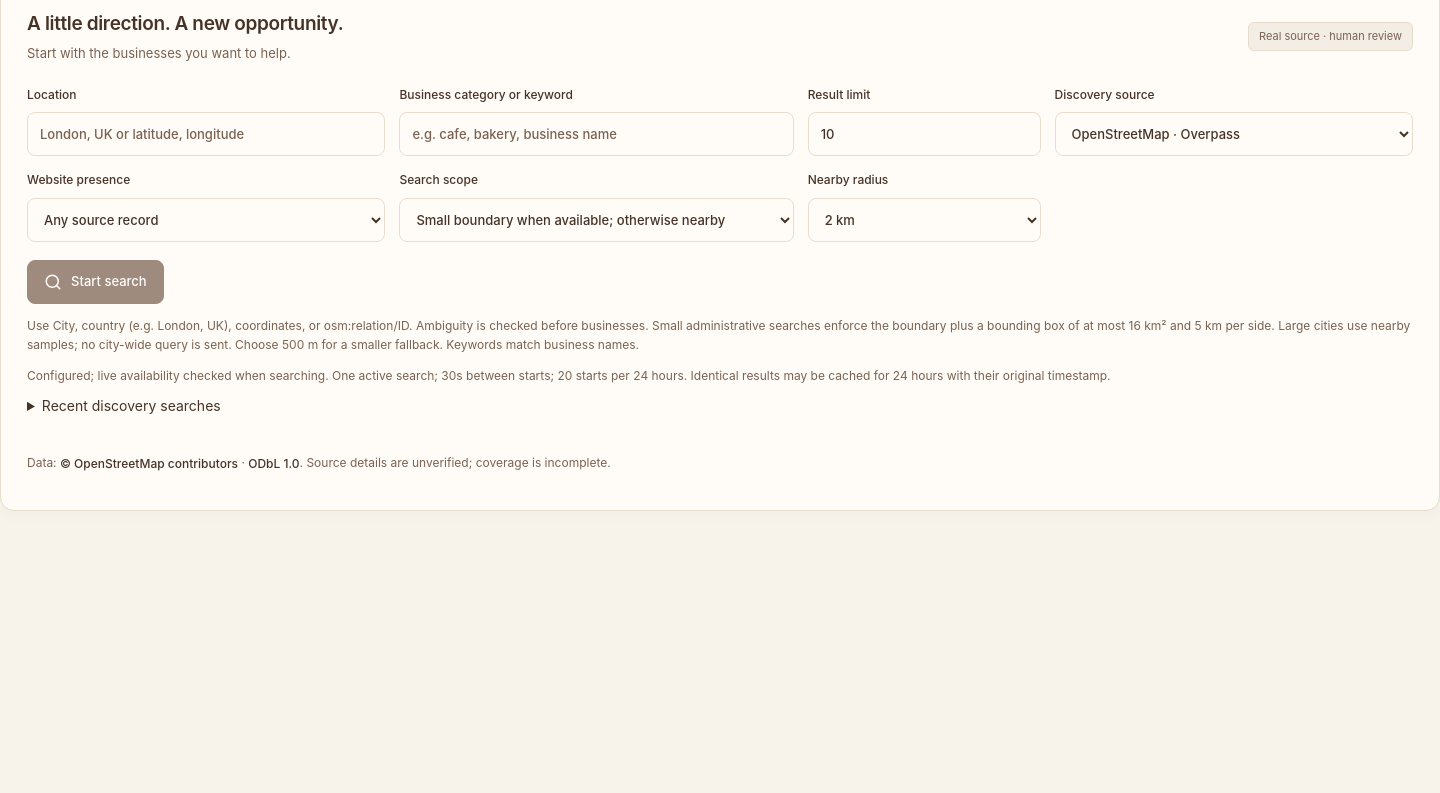
Test: submits bounded search values and saves reviewed IDs only with licence confirmation
This screenshot has width=1440, height=793.
Type "52.2, 0.1" into the field labelled "Location" at coordinates (206, 134), box [27,112,385,156]
Type "cafe" into the field labelled "Business category or keyword" at coordinates (596, 134), box [399,112,794,156]
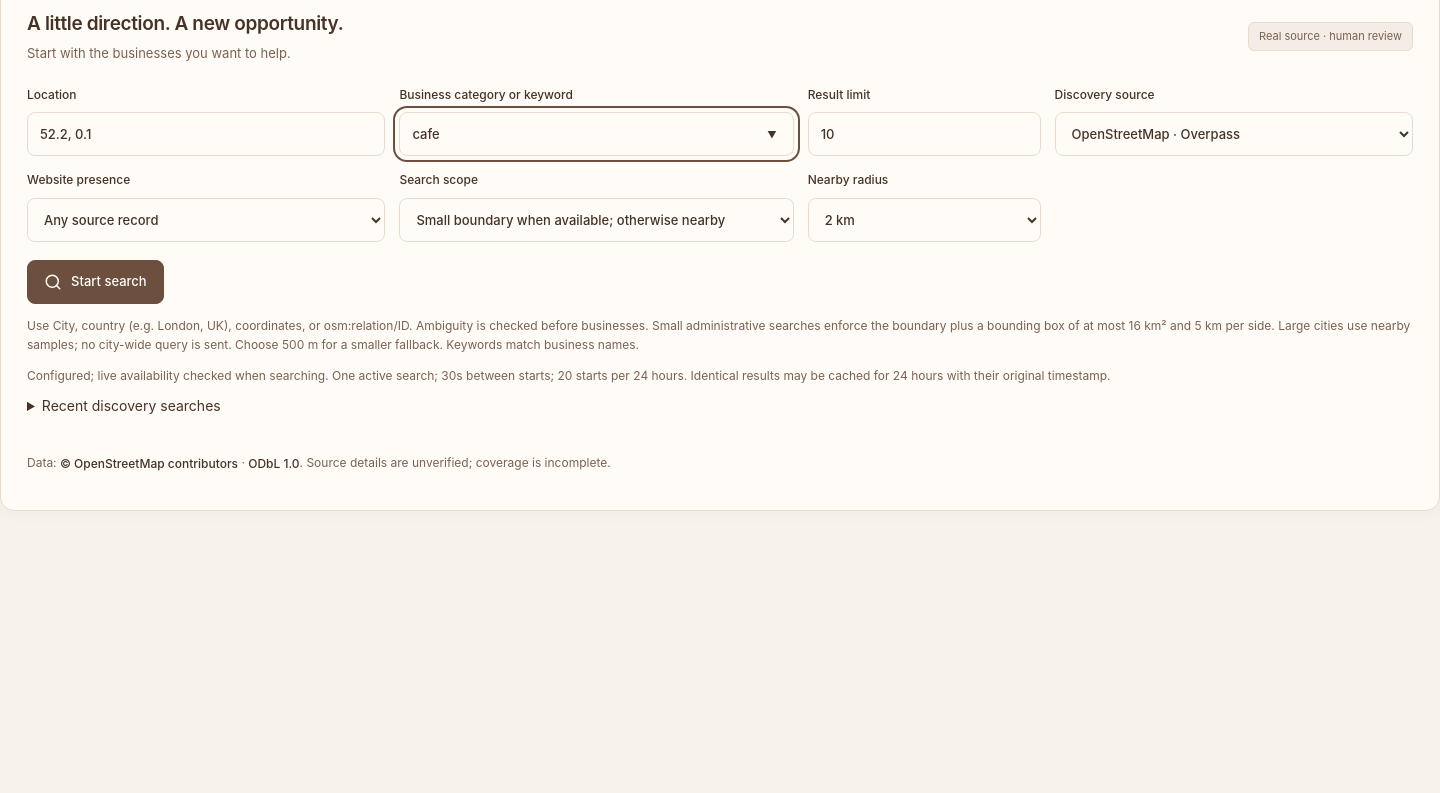
Expected: the number field labelled "Result limit" holds "10", [808,112,1041,156]
Select "No usable website tag" in the dropdown labelled "Website presence" at coordinates (206, 220), box [27,198,385,242]
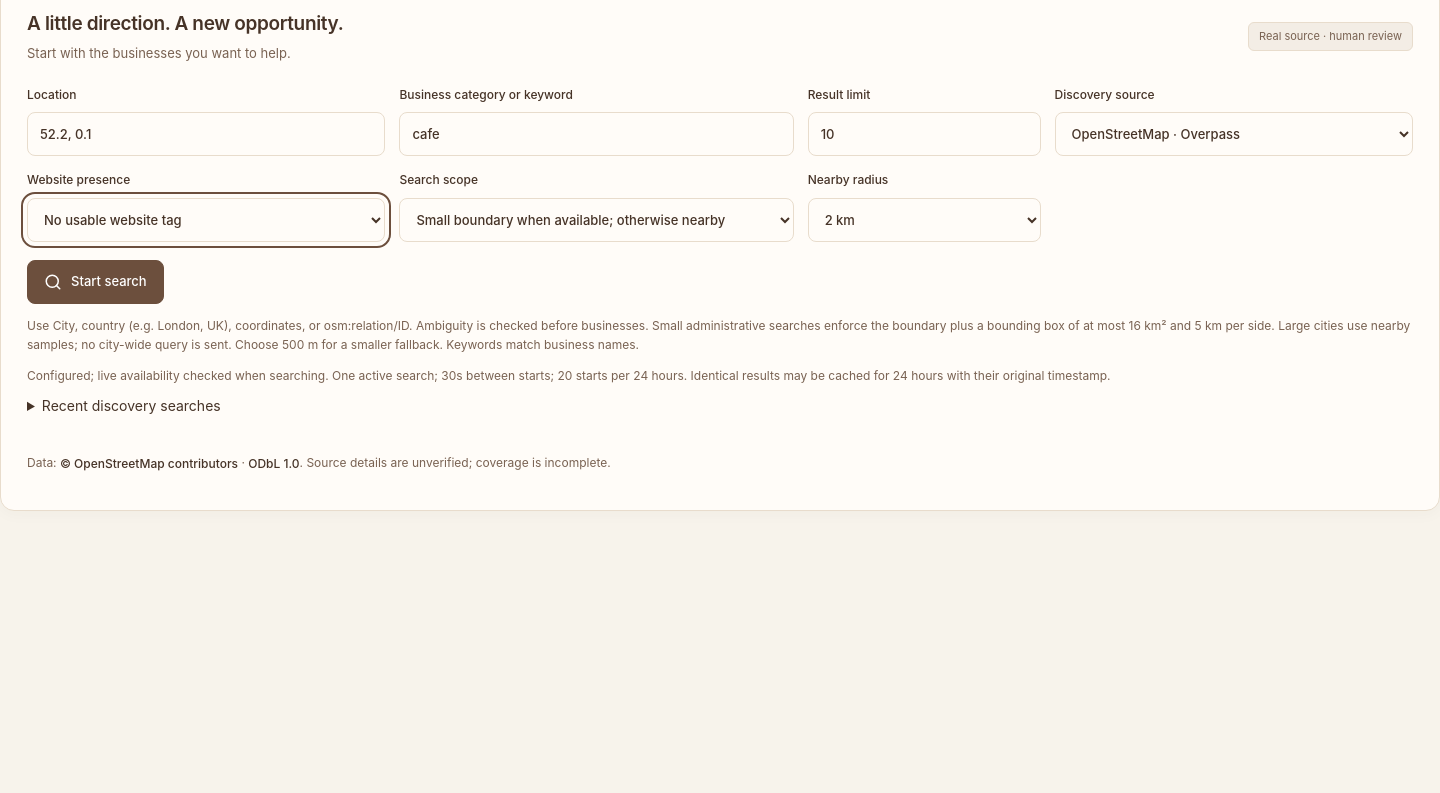
Click the button "Start search" at coordinates (95, 282), box [27,260,164,304]
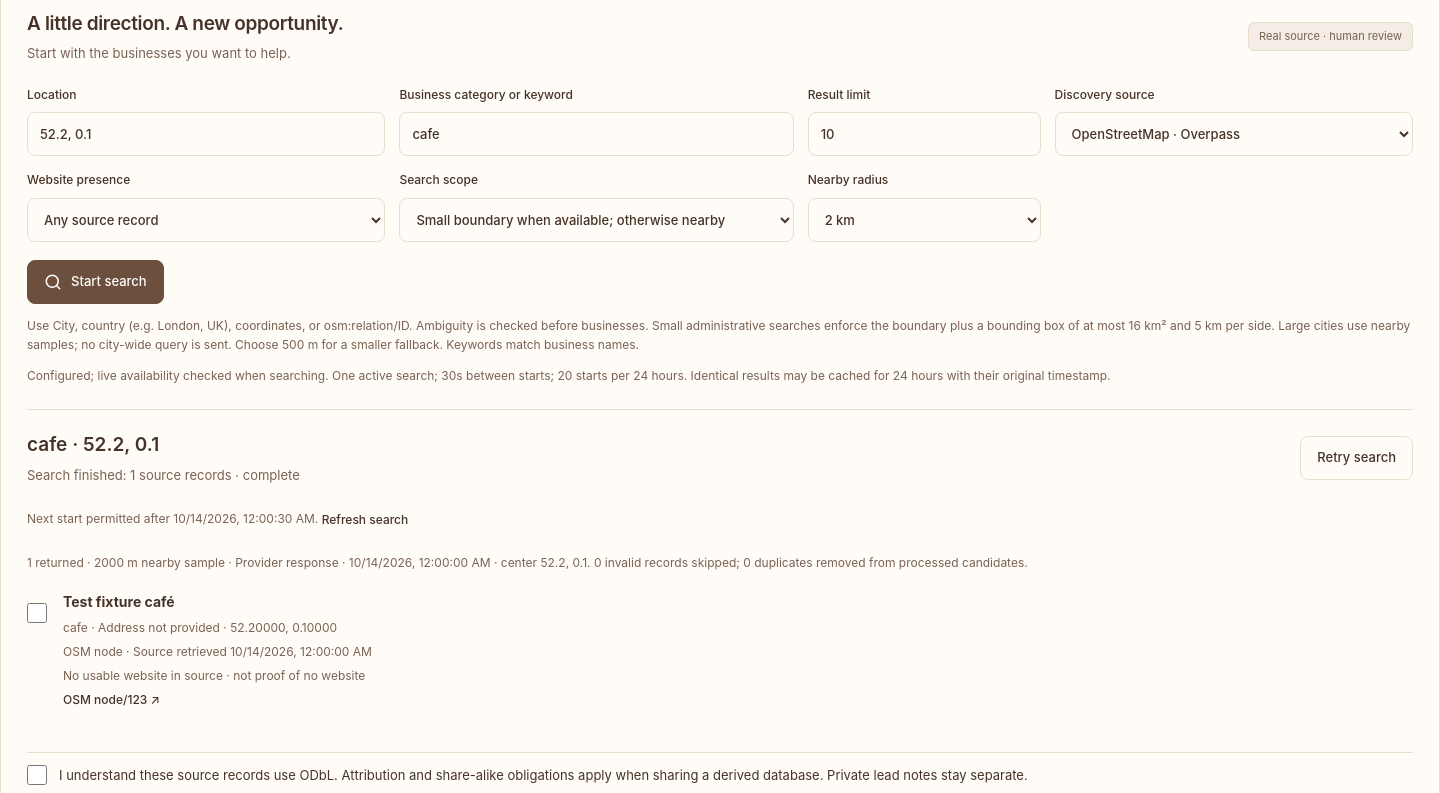
Now the text "Test fixture café" is shown, box [63,592,175,610]
Click the checkbox named "Select Test fixture café" at coordinates (37, 612), box [27,602,47,622]
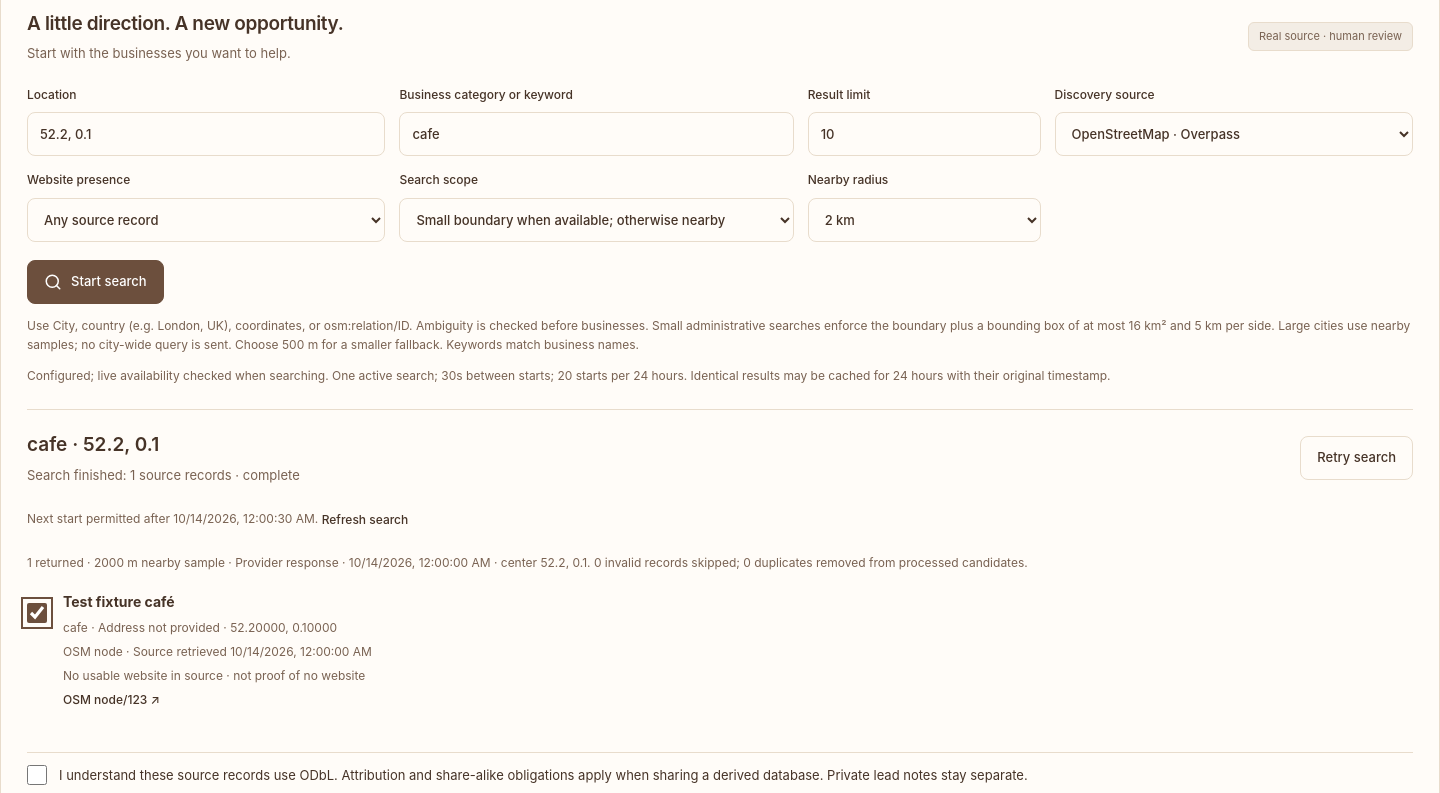
Click the checkbox labelled "I understand these source records" at coordinates (37, 776), box [27,766,47,786]
(page scrolled)
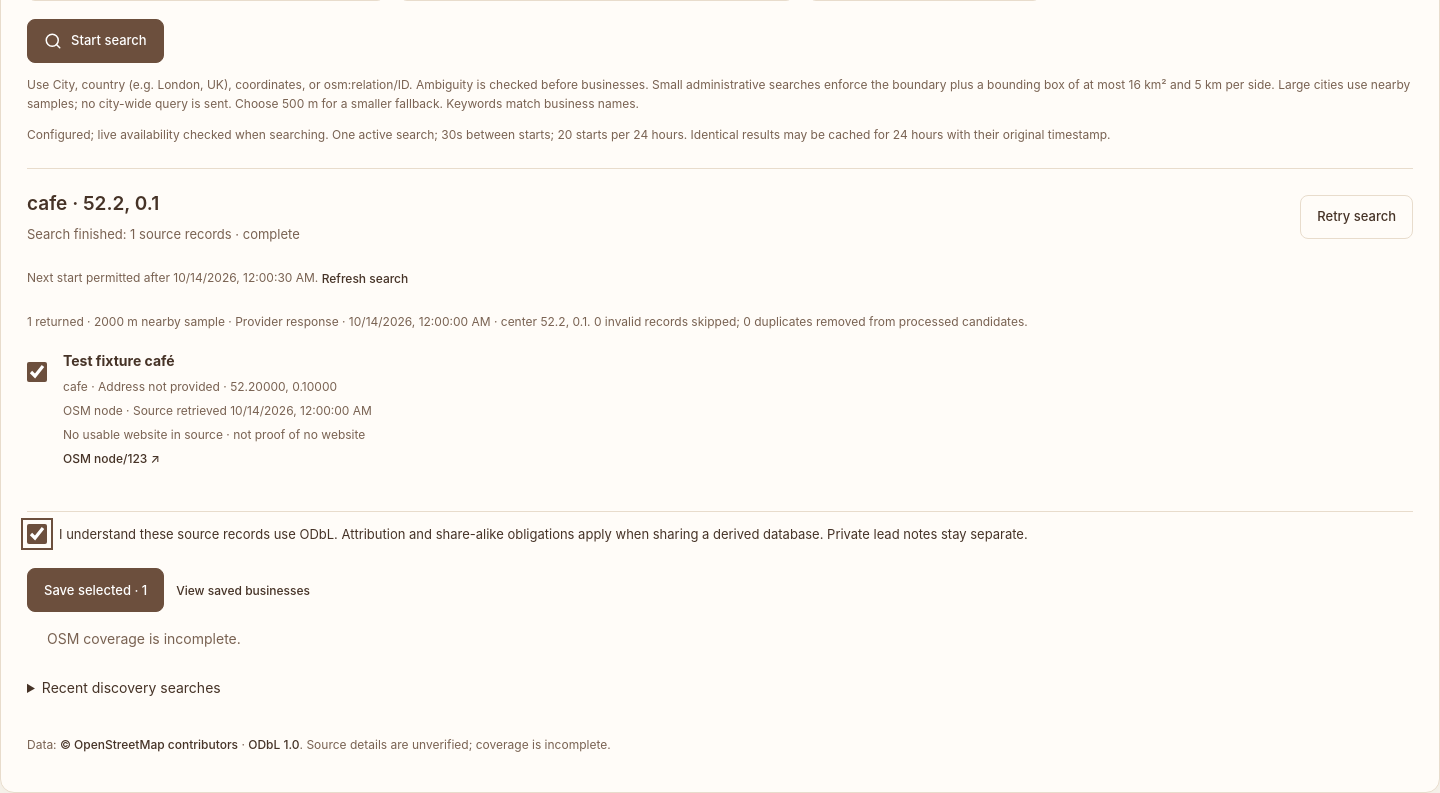
Click the button "Save selected · 1" at coordinates (96, 590), box [27,568,164,612]
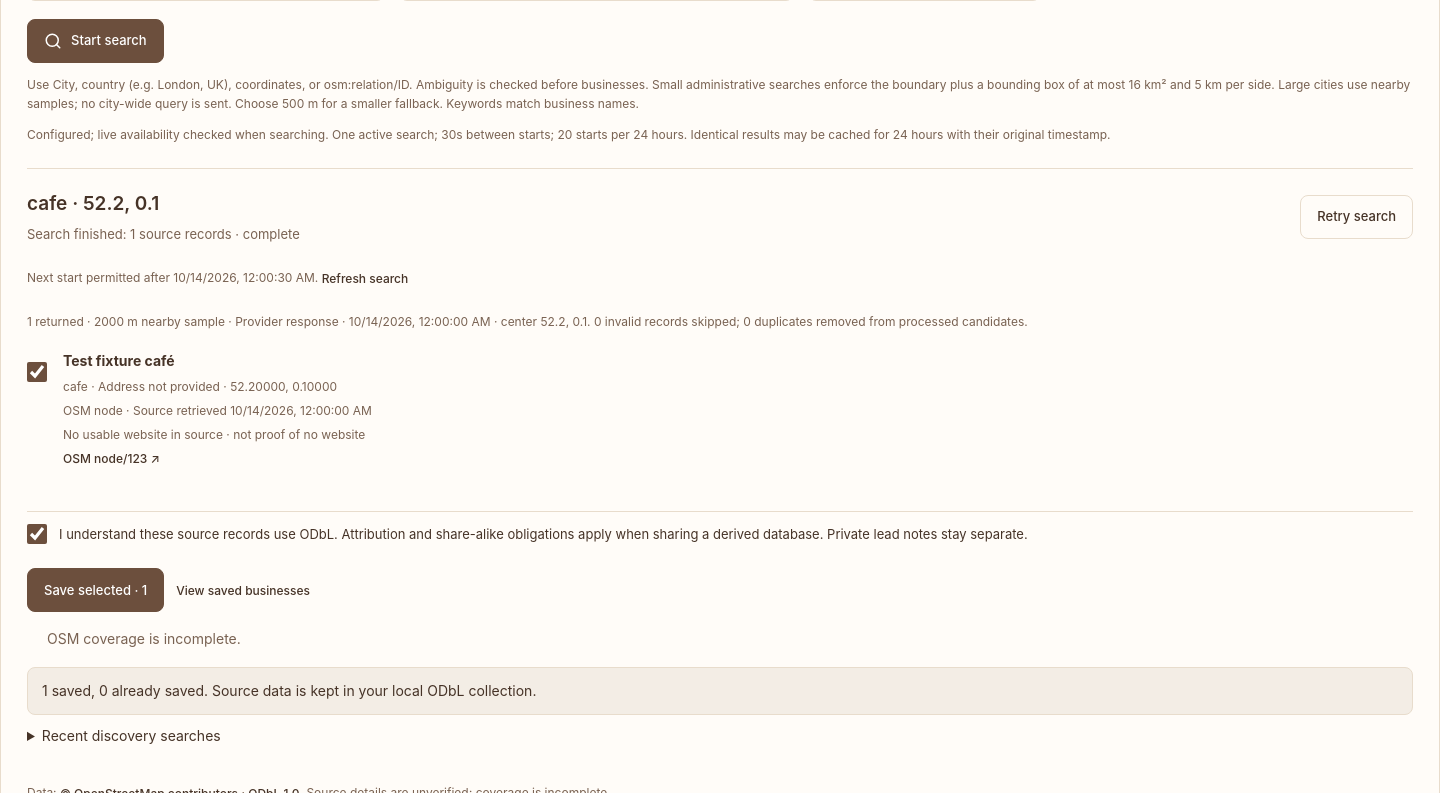
Now the text "1 saved, 0 already saved. Source data is kept in your local ODbL collection." is shown, box [27,667,1413,715]
